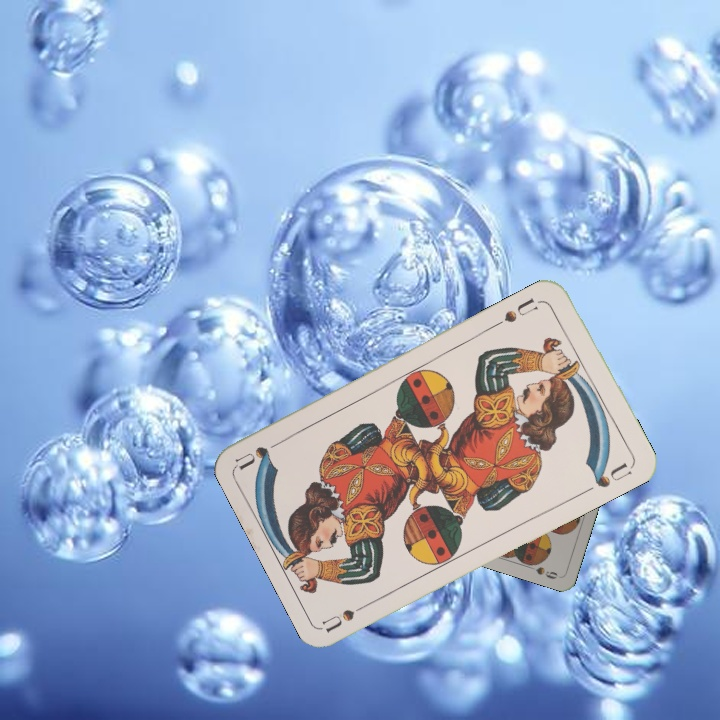SU: (320, 596, 376, 635), (500, 293, 540, 326)
